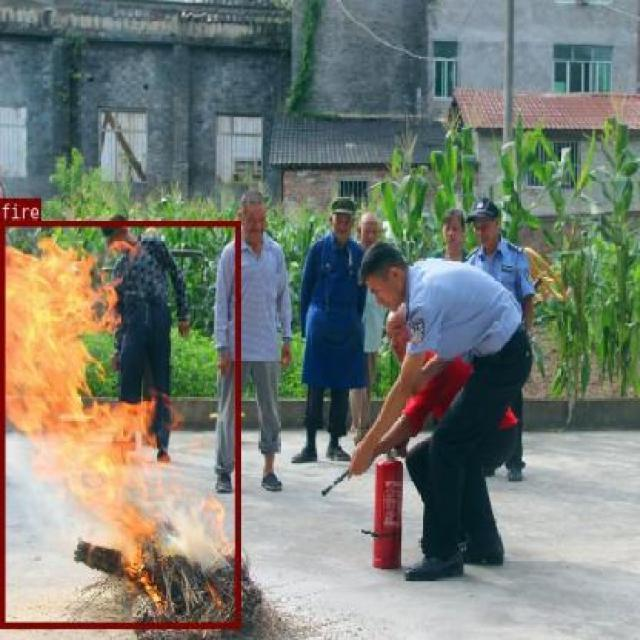Fire: (0, 220, 238, 626)
